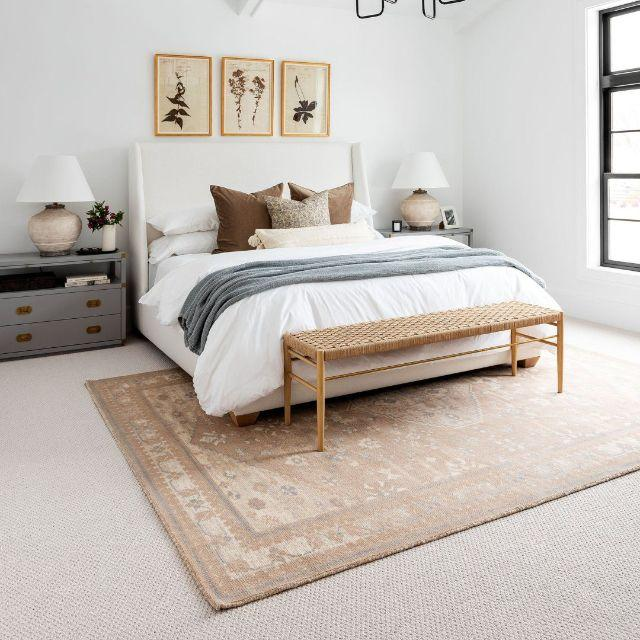bed: (143, 244, 560, 399)
lamp: (16, 152, 90, 260), (389, 149, 446, 229)
pillow: (287, 180, 370, 248), (213, 186, 288, 254), (262, 195, 335, 251)
window: (582, 6, 640, 271)
